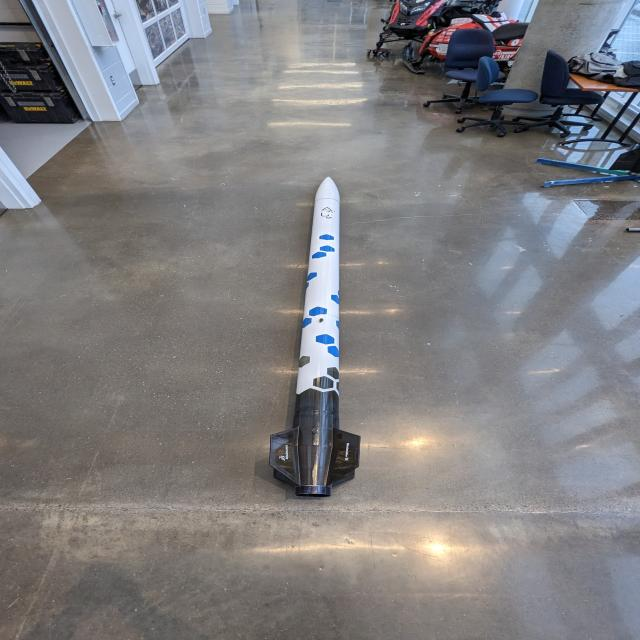Rocket: (269, 176, 361, 498)
